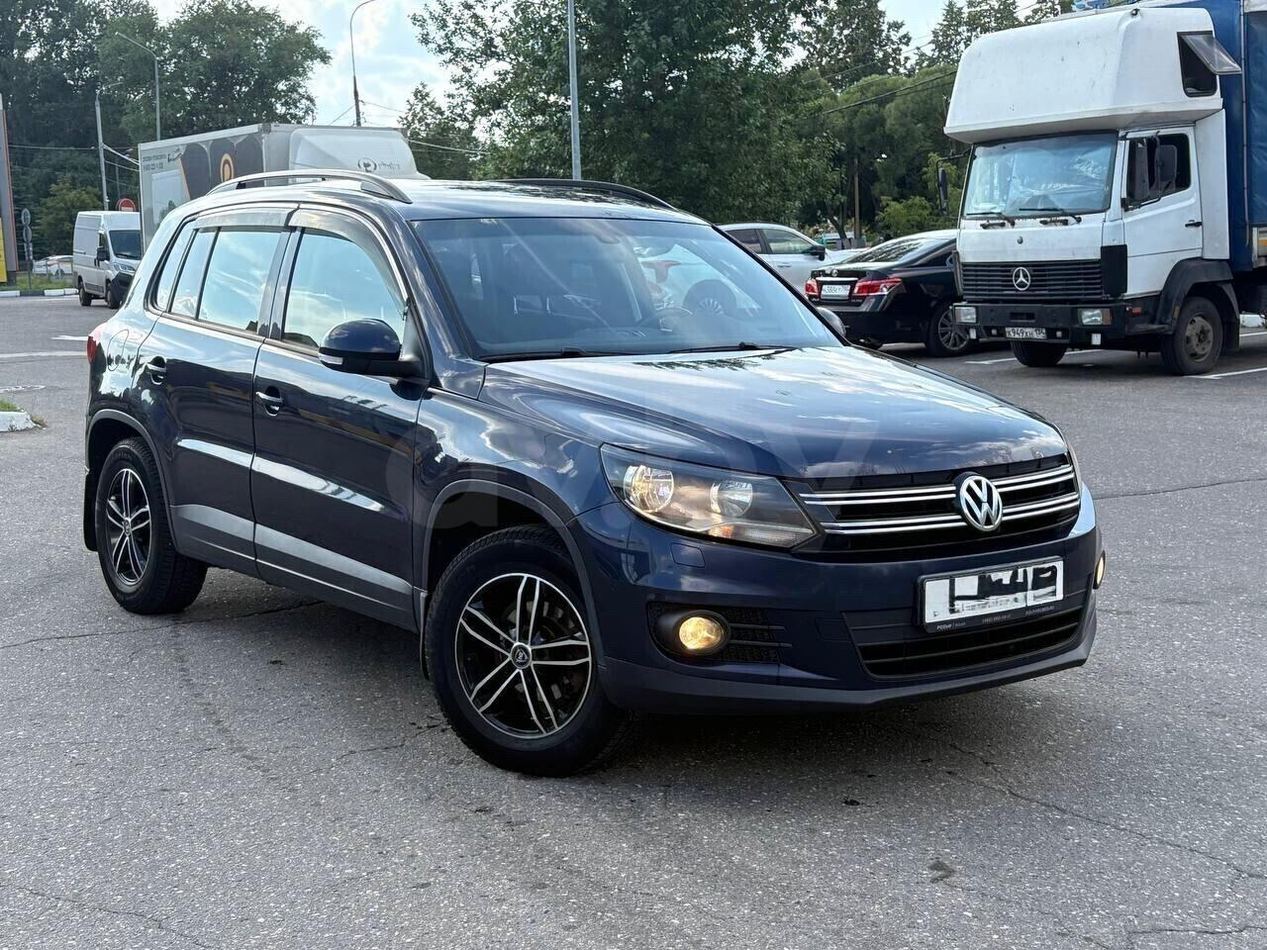Tiguan_2011-2018: (64, 172, 1114, 768)
